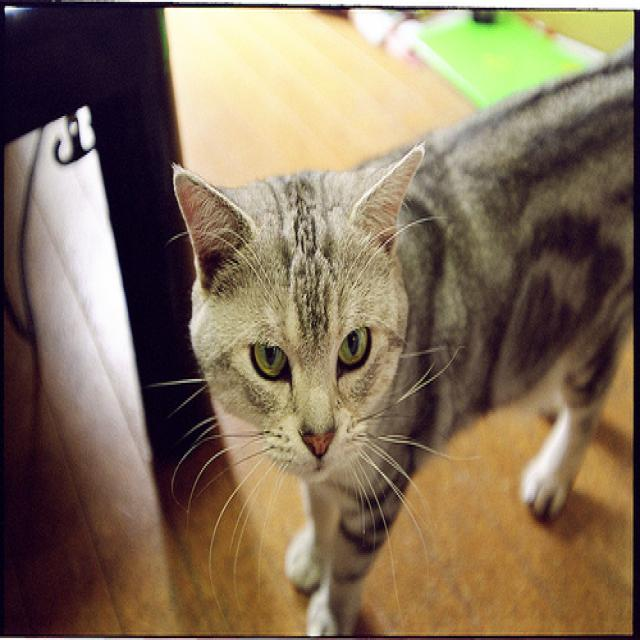cat: (155, 38, 635, 637)
